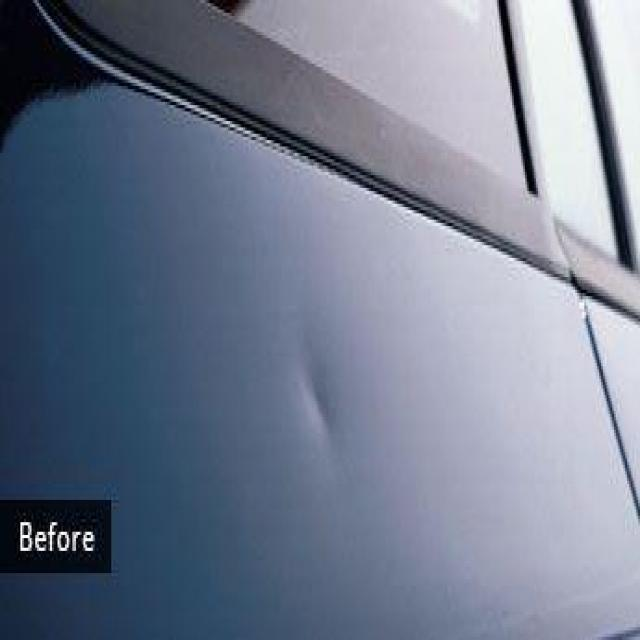dent: (270, 298, 342, 482)
